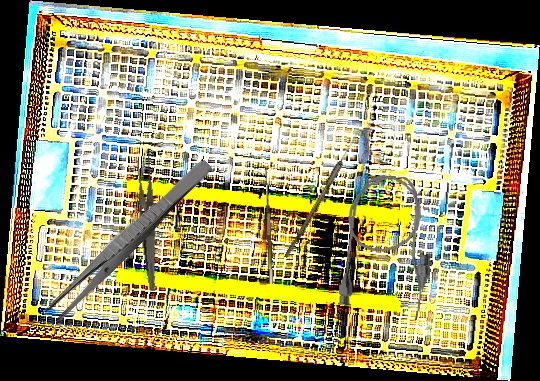Cannula: (337, 172, 438, 321)
Dressing Forceps: (42, 153, 215, 325), (129, 152, 171, 292)
Hook Surgical: (258, 168, 274, 285)
Surgical Spoon: (284, 127, 362, 260)
